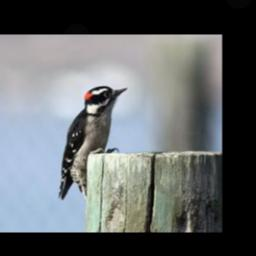Woodpecker: (57, 84, 128, 198)
